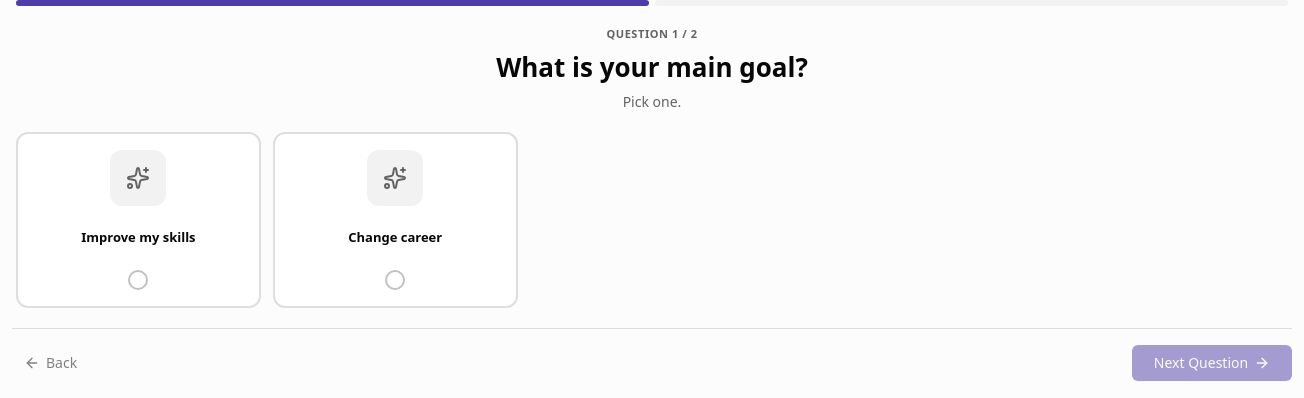
Test: the last step finishes rather than continuing › shows the finish label only on the final question
Check: the button "Next Question" is shown, box [1132,345,1292,381]
Click the radio button labelled "Improve my skills".
click(138, 220)  # box [16,132,261,308]
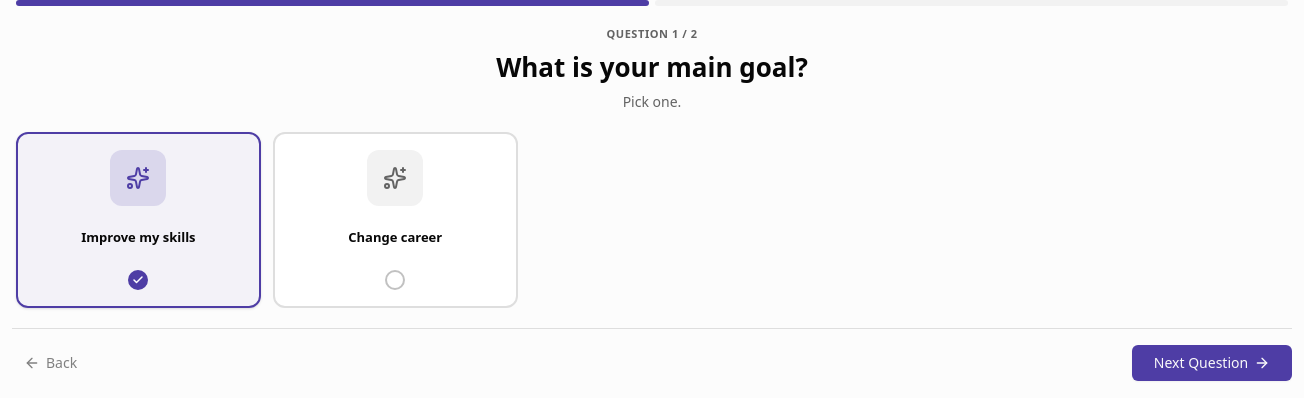
Click the button "Next Question".
click(1212, 363)  # box [1132,345,1292,381]
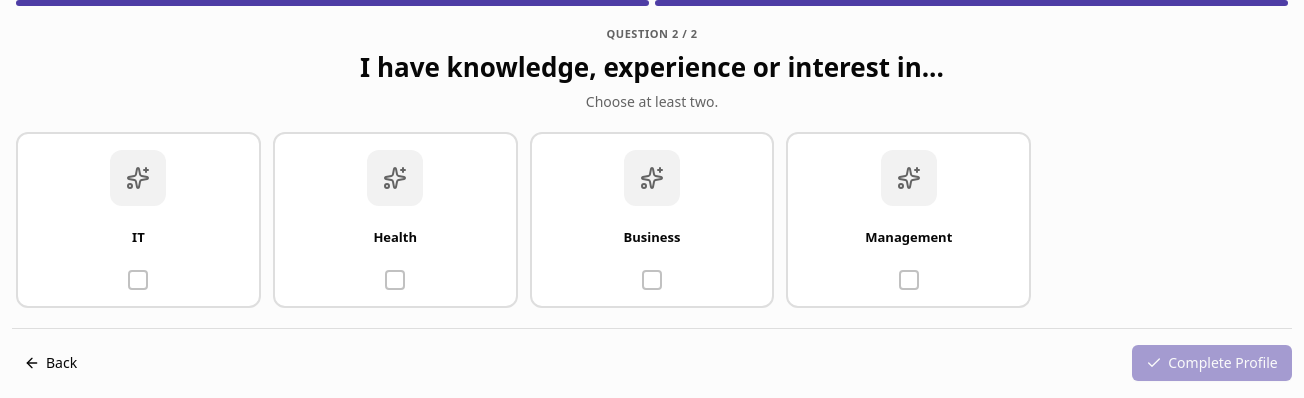
Check: the button "Complete Profile" is shown, box [1132,345,1292,381]
Check: the button "Next Question" is gone
